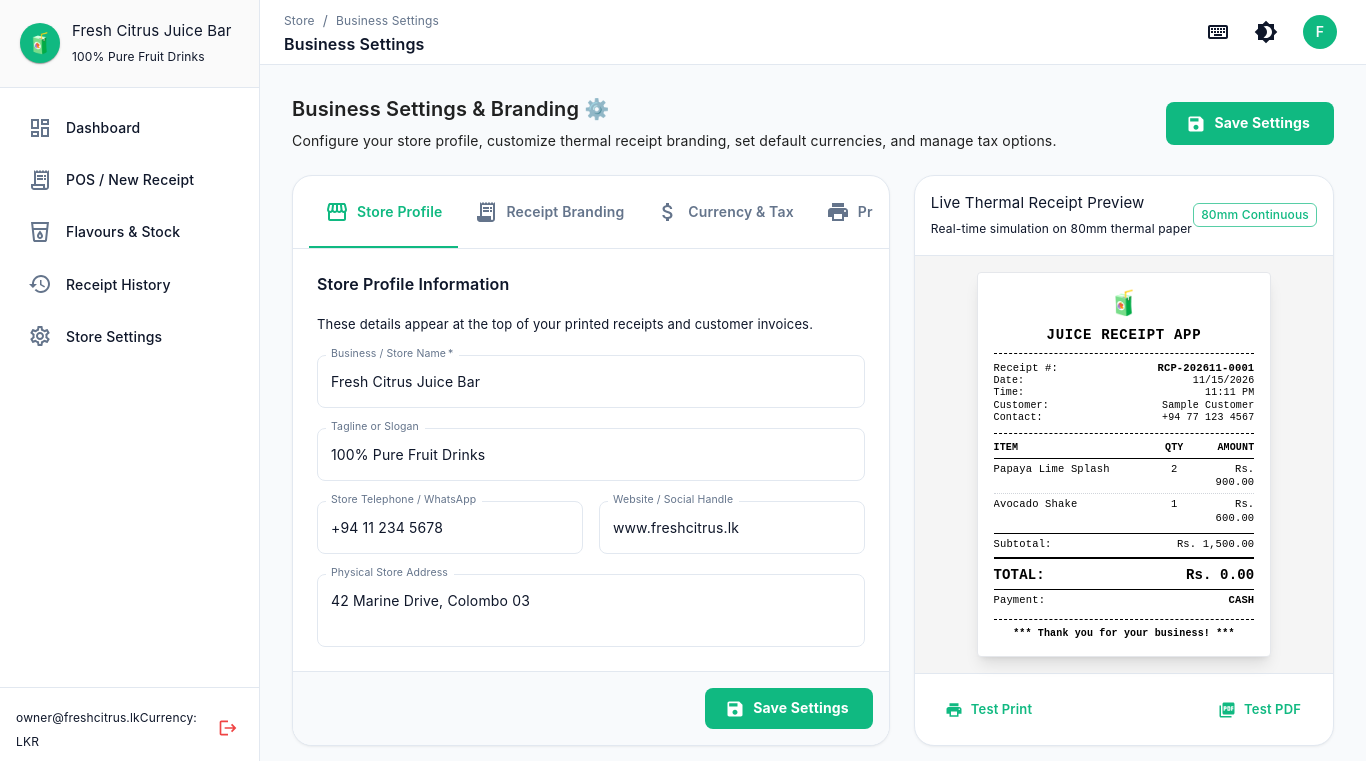
Test: Settings Page UI › saves updated settings successfully and shows confirmation alert
Step 1. Replace the text in the field labelled "Business / Store Name *" with "Fresh Citrus Juice Bar & Cafe" → (591, 381), box [317,355,865,408]
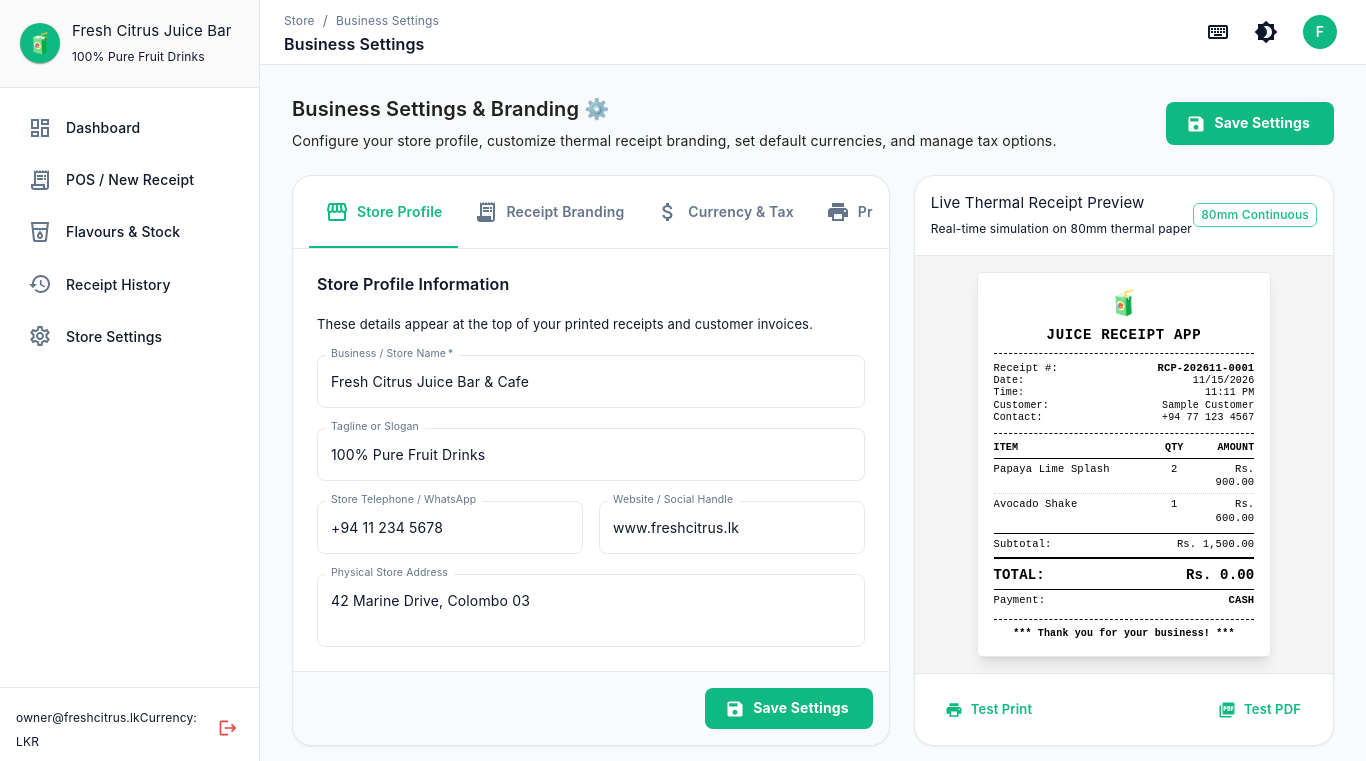
Step 2. Click the button "Save Settings" in the row of "Business Settings & Branding ⚙️" → (1250, 124), box [1166,102,1334,145]
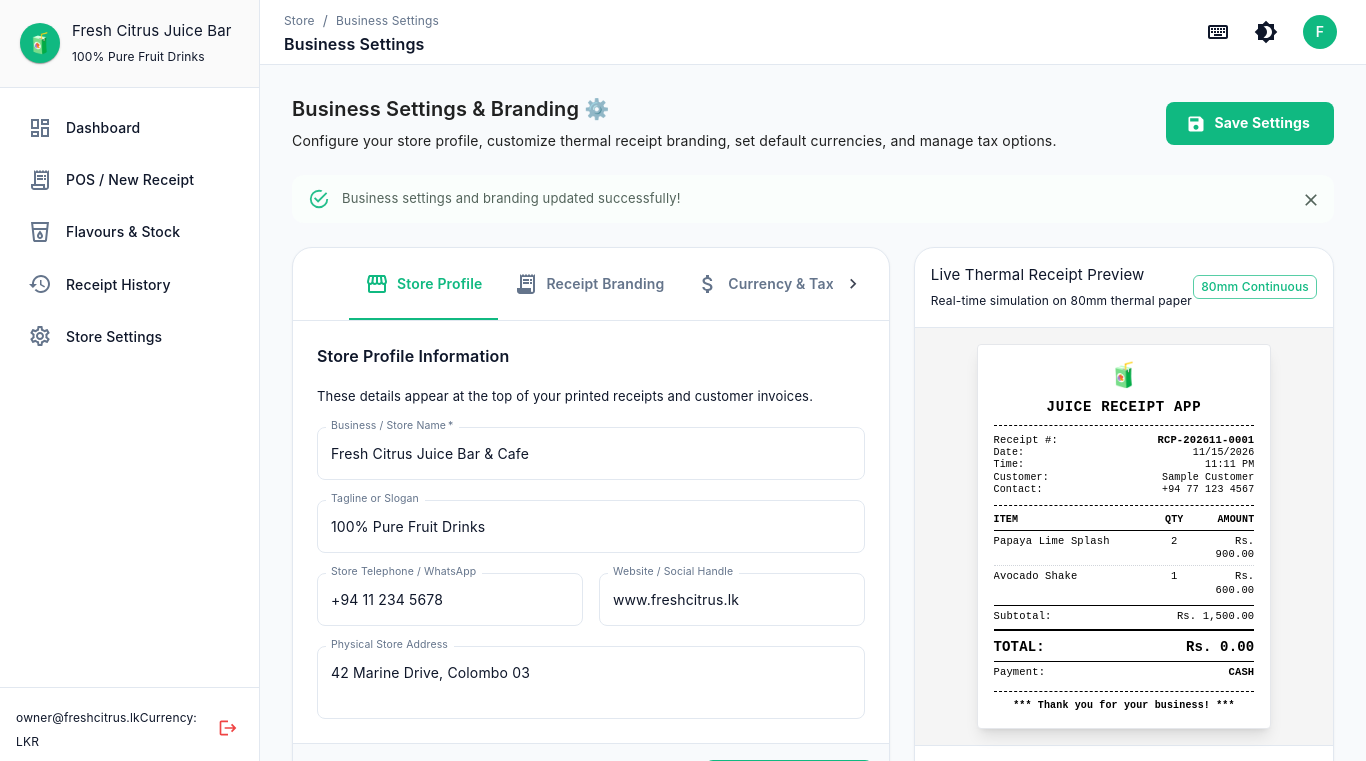
expect the text "Business settings and branding updated successfully!" is shown: met, box [342,190,681,206]
